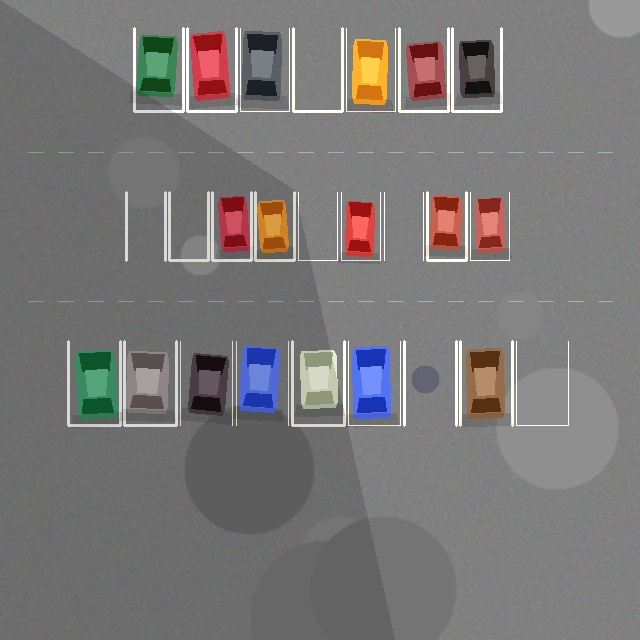space-empty: (404, 341, 456, 425), (516, 341, 568, 425), (293, 28, 342, 111), (126, 192, 165, 260), (169, 192, 208, 260), (298, 192, 337, 260), (384, 192, 423, 260)
space-occupied: (68, 341, 120, 425), (124, 341, 176, 425), (180, 341, 232, 425), (236, 341, 288, 425), (292, 341, 344, 425), (348, 341, 400, 425), (460, 341, 512, 425), (134, 28, 183, 111), (187, 28, 236, 111), (240, 28, 289, 111), (346, 28, 395, 111), (399, 28, 448, 111), (452, 28, 501, 111), (212, 192, 251, 260), (255, 192, 294, 260), (341, 192, 380, 260), (427, 192, 466, 260), (470, 192, 509, 260)
